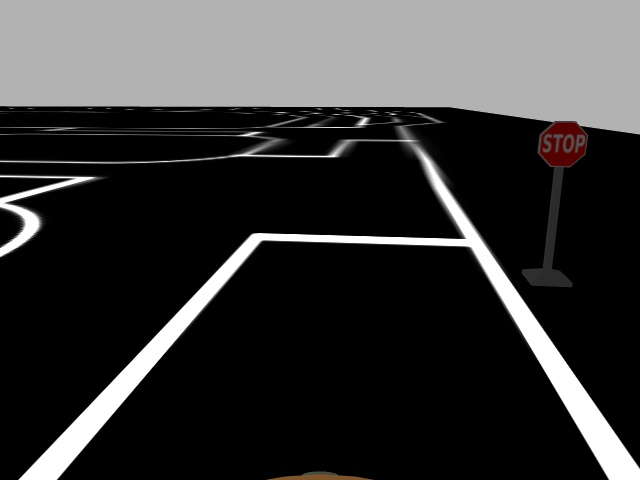stop: (535, 119, 590, 171)
